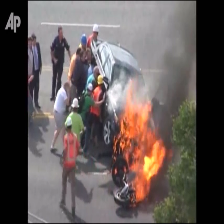fire_h: (113, 79, 167, 202)
fire_l: (114, 168, 117, 174), (123, 166, 126, 171)
